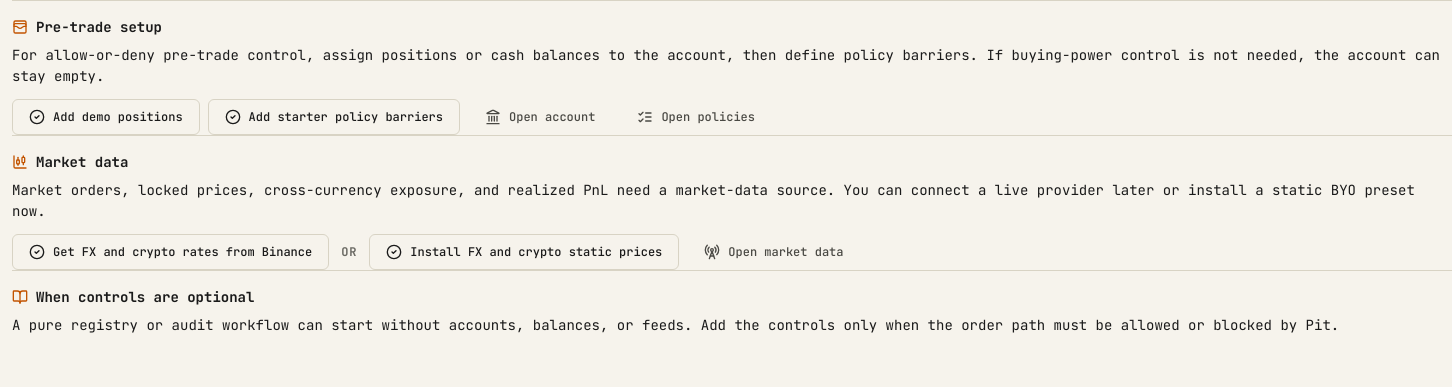
Test: WelcomeQuickStart while accounts are hidden › refuses to fund an account that holds positions and writes nothing
Step 1. Click the button "Add demo positions" → (106, 117), box [12,99,200,135]
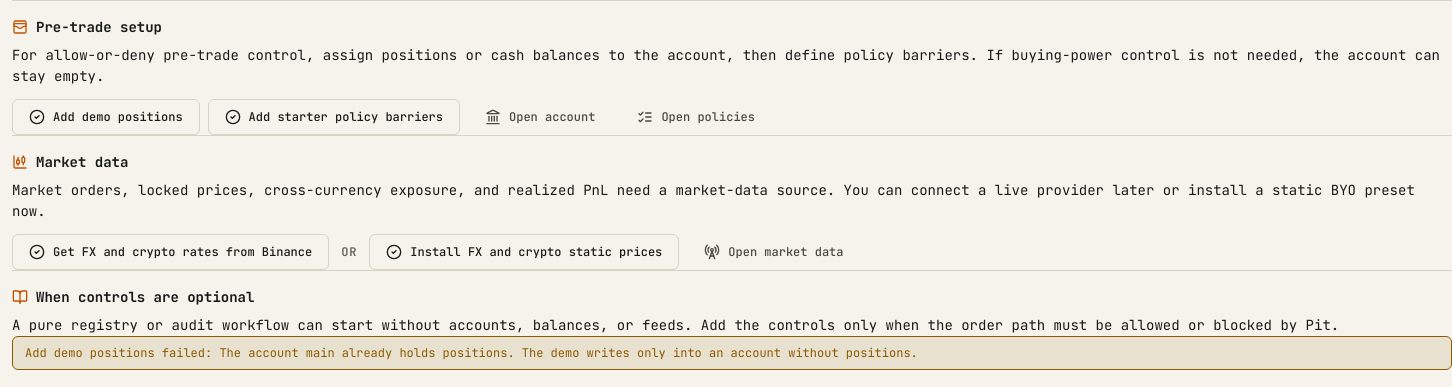
Now the text "Add demo positions failed: The account main already holds positions. The demo writes only into an account without positi" is shown, box [25,345,918,361]
